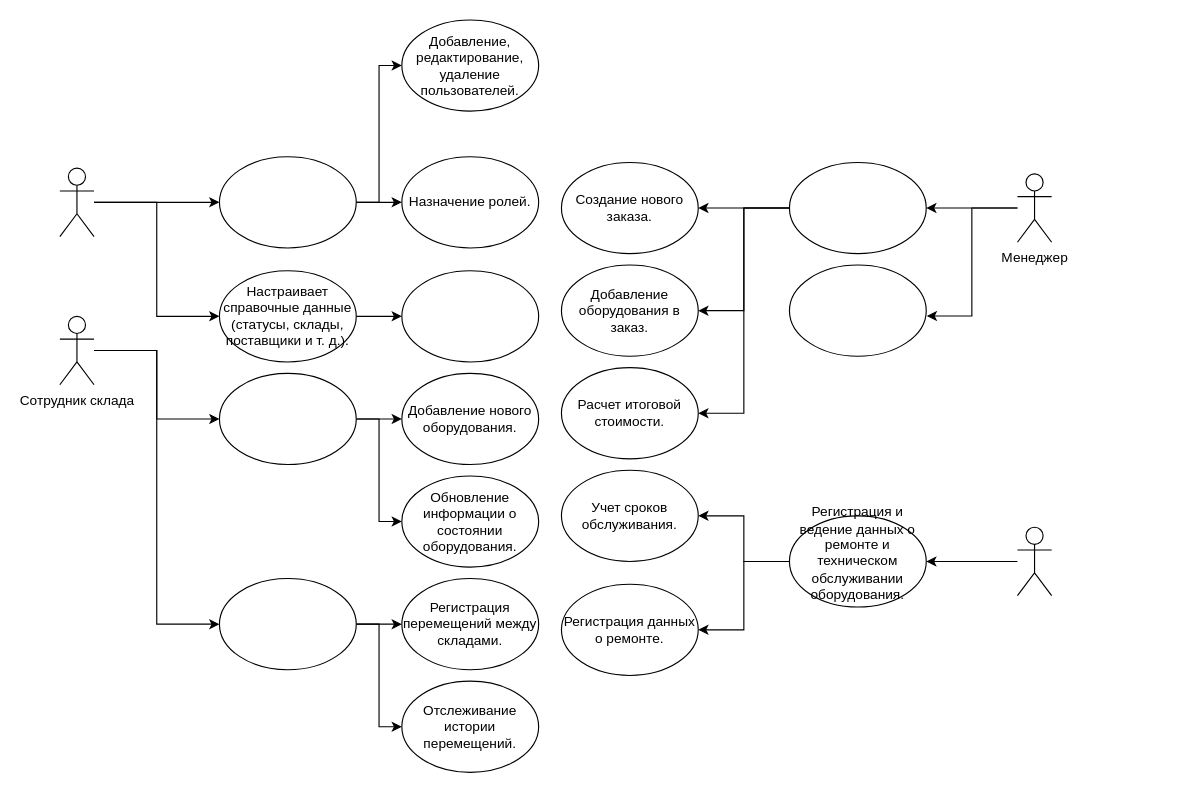
Some shapes in this 1178 by 792 pixel diagram are drawn without their labels. Each missing label, with the centre of its shape:
Администратор: the point at 76,202
Анализ данных (отчеты по оборудованию, заказам, складам и т. д.).: the point at 857,310
Добавление/редактирование статусов, категорий, складов и поставщиков.: the point at 470,316
Перемещение оборудования между складами.: the point at 287,623
Создание и управление заказами.: the point at 857,207
Сотрудник технического обслуживания: the point at 1034,561
Управляет пользователями, ролями и категориями.: the point at 287,202
Учет оборудования.: the point at 287,418
